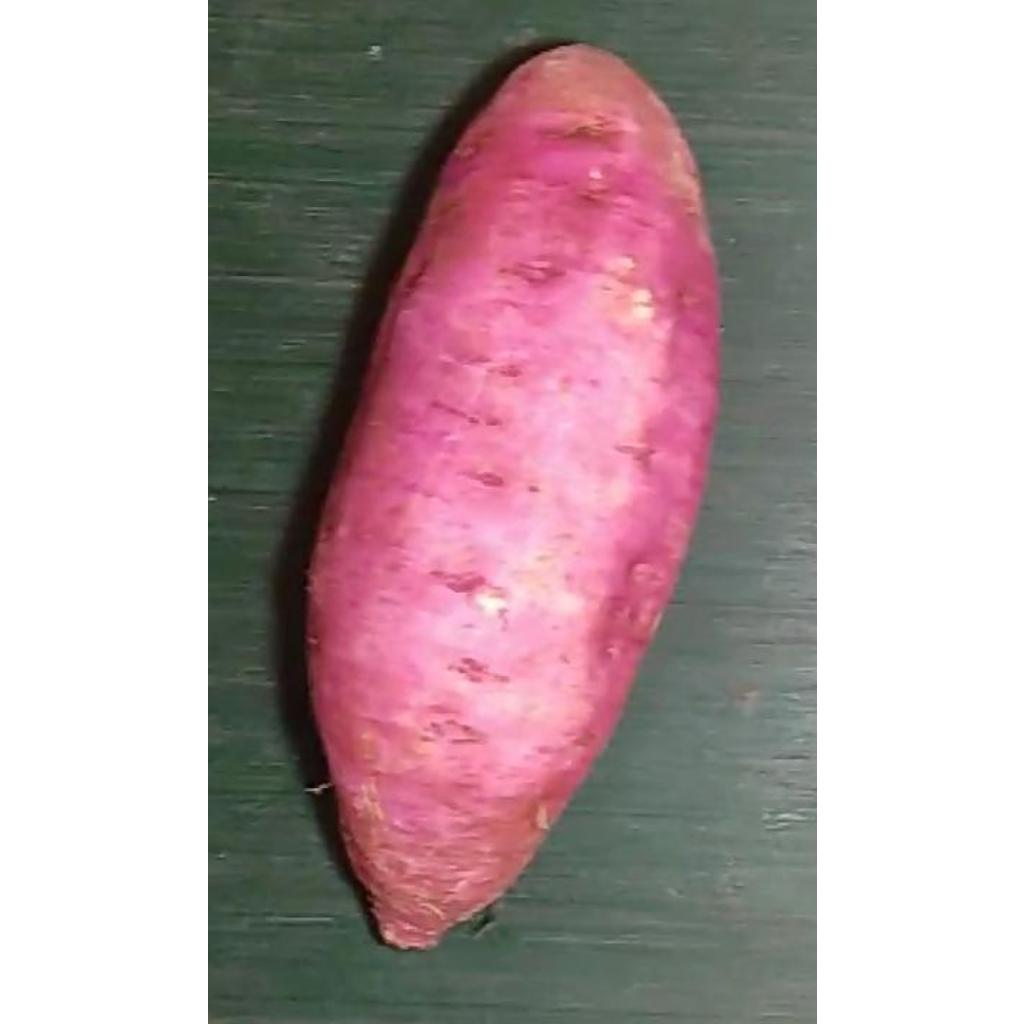Sweet Potato: (303, 43, 720, 955)
